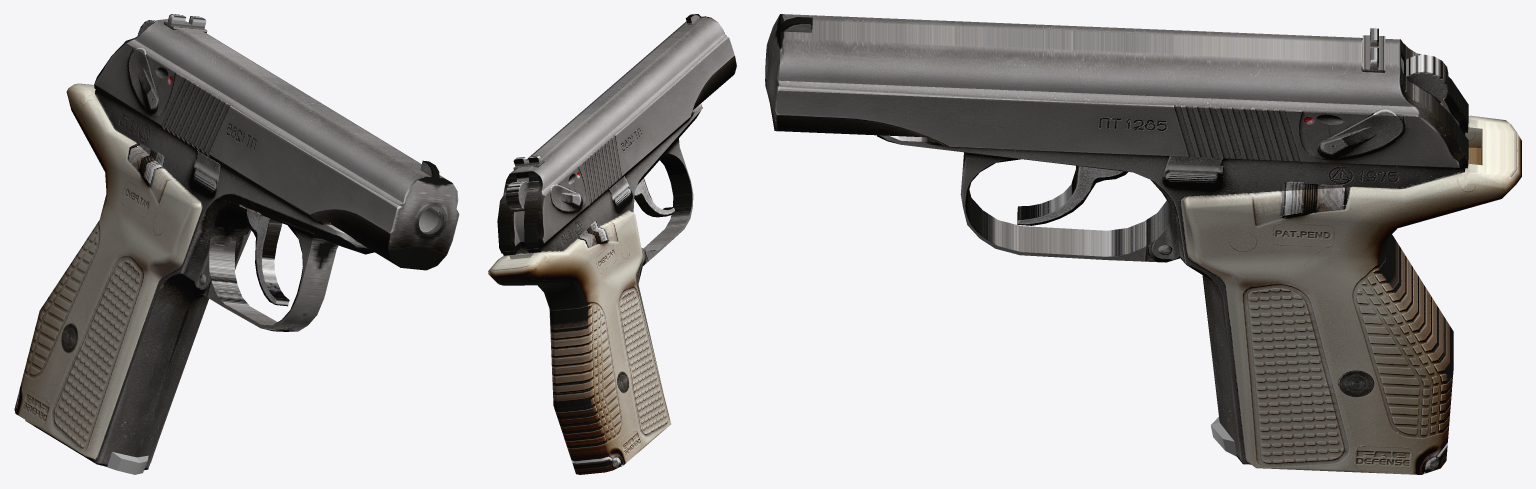
File: reroad_o_01.fbx
3 views of the same model, side by side, from view 1: azimuth 30°, elevation 25°; view 2: azimuth 150°, elevation 25°; view 3: azimuth 270°, elevation 25° (orthographic). The views are drawn at different scales.
Parts seen in each view (by area): view 1: polySurface1, pCube4, pCube3, pCylinder2, polySurface2, mag2; view 2: pCube4, polySurface1, pCube3, pCylinder1, pCylinder2; view 3: polySurface1, pCube4, pCube3, pCylinder2, pCylinder1.
Part boxes in pixels (<box>): polySurface1: <box>94,14,459,270</box>; pCube4: <box>14,83,251,462</box>; pCube3: <box>25,89,374,470</box>; pCylinder2: <box>245,209,289,306</box>; polySurface2: <box>416,204,446,237</box>; mag2: <box>105,452,148,474</box>; pCube4: <box>488,211,671,474</box>; polySurface1: <box>497,14,736,253</box>; pCube3: <box>503,104,702,466</box>; pCylinder1: <box>506,181,529,249</box>; pCylinder2: <box>634,178,674,217</box>; polySurface1: <box>765,14,1468,168</box>; pCube4: <box>1181,115,1521,474</box>; pCube3: <box>877,128,1465,464</box>; pCylinder2: <box>1017,165,1127,225</box>; pCylinder1: <box>1401,54,1448,105</box>.
Bounding box in the file's own units: 4.98 × 11.09 × 14.8.
